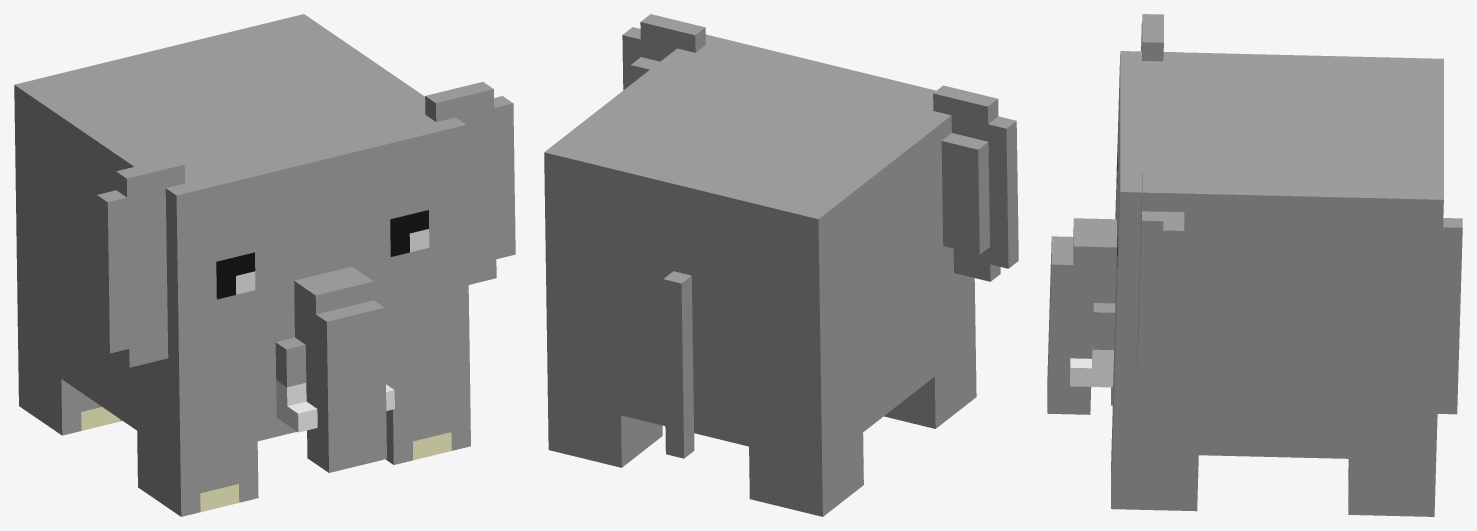
File: eelephant.fbx
The picture shows the model from 3 angles, left to right: view 1: azimuth 30°, elevation 25°; view 2: azimuth 150°, elevation 25°; view 3: azimuth 270°, elevation 25°; orthographic projection. The views are drawn at different scales.
Parts seen in each view (by area): view 1: elephant; view 2: elephant; view 3: elephant.
Boxes of the visible parts, x1,y1,x2,y2 form: elephant: (14, 14, 515, 516); elephant: (544, 14, 1018, 516); elephant: (1047, 14, 1462, 516).
Size of the model in its own units: 2165 by 1754 by 1925.
